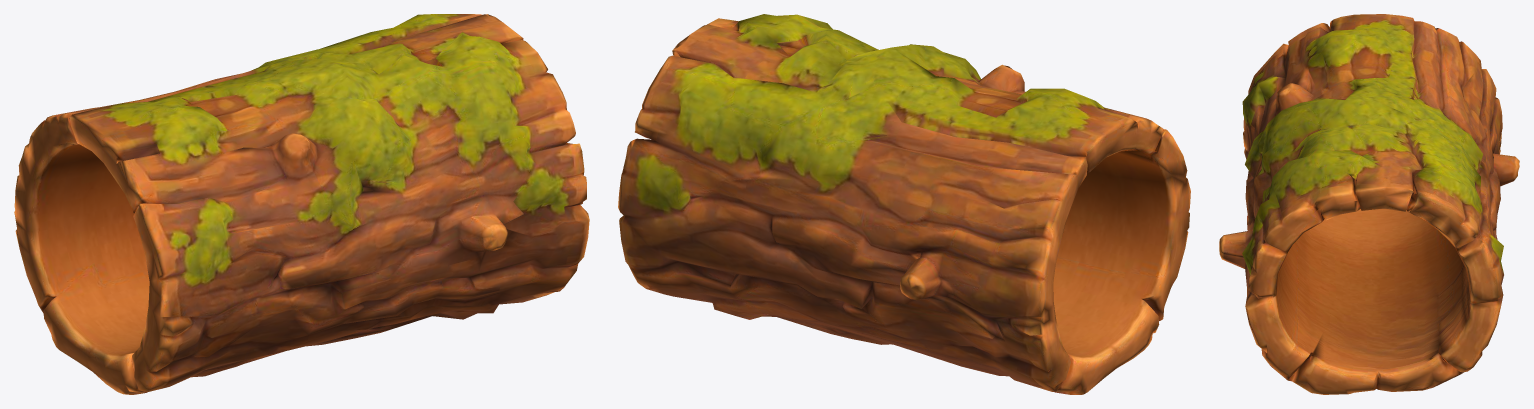
File: hollow_log_tunnel.glb
The picture shows the model from 3 angles, left to right: view 1: azimuth 30°, elevation 25°; view 2: azimuth 150°, elevation 25°; view 3: azimuth 270°, elevation 25°; orthographic projection. The views are drawn at different scales.
Visible parts, largest first — view 1: hollow_log_tunnel; view 2: hollow_log_tunnel; view 3: hollow_log_tunnel.
Boxes of the visible parts, left/top/right/bottom form: hollow_log_tunnel: left=14, top=14, right=589, bottom=394; hollow_log_tunnel: left=618, top=14, right=1190, bottom=394; hollow_log_tunnel: left=1219, top=14, right=1519, bottom=394.
Bounding box in the file's own units: 0.9668 × 0.55 × 0.6817.
Materials: 1 (1 with a texture image).
